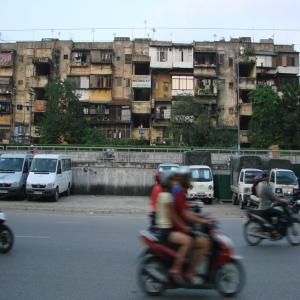Vehicle-registration-plate: (35, 193, 43, 195), (1, 191, 8, 193)
